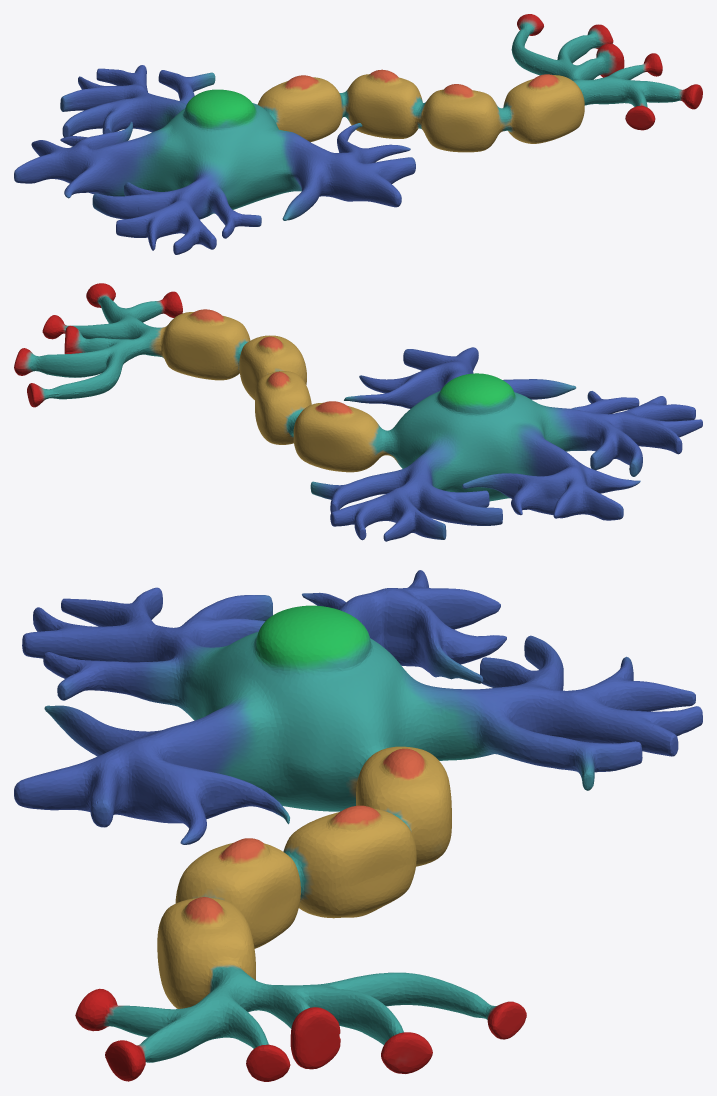
3 renders of one model, top to bottom at view 1: azimuth 30°, elevation 25°; view 2: azimuth 150°, elevation 25°; view 3: azimuth 270°, elevation 25°, orthographic. The views are drawn at different scales.
Parts seen in each view (by area): view 1: Quad Sphere; view 2: Quad Sphere; view 3: Quad Sphere.
Boxes of the visible parts, x1=… form: Quad Sphere: x1=14, y1=14, x2=702, y2=254; Quad Sphere: x1=14, y1=283, x2=702, y2=541; Quad Sphere: x1=14, y1=570, x2=702, y2=1081.
Size of the model in its own units: 8.27 by 1.44 by 4.91.
